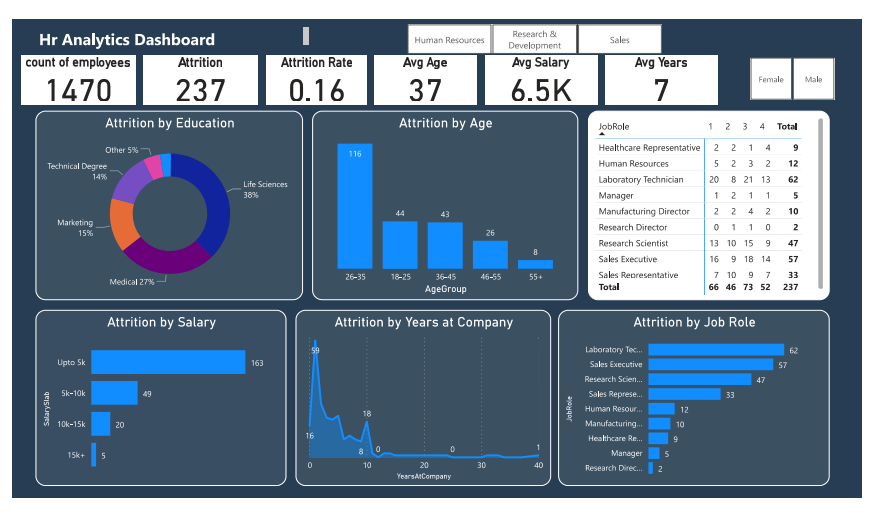

The dashboard page shown, as its layout file describes it:
{"tool":"powerbi","page":{"name":"Page 1","canvas":[1280,720],"ordinal":0},"visuals":[{"type":"card","title":"Avg Age","fields":{"Values":["Avg(HR_Analytics.Age)"]},"box":[545,53.3,155,73.3],"z":0},{"type":"card","title":"Attrition Rate","fields":{"Values":["HR_Analytics.AttritionRate"]},"box":[383.3,53.3,151.7,73.3],"z":1000},{"type":"card","title":"Attrition","fields":{"Values":["Sum(HR_Analytics.AttritionCount)"]},"box":[196.7,53.3,173.3,73.3],"z":2000},{"type":"card","title":"count of employees","fields":{"Values":["CountNonNull(HR_Analytics.EmpID)"]},"box":[13.3,53.3,171.7,73.3],"z":3000},{"type":"card","title":"Avg Salary","fields":{"Values":["Avg(HR_Analytics.MonthlyIncome)"]},"box":[711.7,53.3,170,73.3],"z":4000},{"type":"card","title":"Avg Years","fields":{"Values":["Avg(HR_Analytics.YearsAtCompany)"]},"box":[893.3,53.3,170,73.3],"z":5000},{"type":"donutChart","title":"Attrition by Education","fields":{"Category":["HR_Analytics.EducationField"],"Y":["Sum(HR_Analytics.AttritionCount)"]},"box":[35,136.7,403.3,285],"z":6000},{"type":"columnChart","title":"Attrition by Age","fields":{"Category":["HR_Analytics.AgeGroup"],"Y":["Sum(HR_Analytics.AttritionCount)"]},"box":[451.7,136.7,401.7,285],"z":7000},{"type":"pivotTable","fields":{"Rows":["HR_Analytics.JobRole"],"Columns":["HR_Analytics.JobSatisfaction"],"Values":["Sum(HR_Analytics.AttritionCount)"]},"box":[868.3,136.7,363.3,285],"z":8000},{"type":"barChart","title":"Attrition by Salary","fields":{"Category":["HR_Analytics.SalarySlab"],"Y":["Sum(HR_Analytics.AttritionCount)"]},"box":[35,436.7,378.3,265],"z":9000},{"type":"barChart","title":"Attrition by Job Role","fields":{"Category":["HR_Analytics.JobRole"],"Y":["Sum(HR_Analytics.AttritionCount)"]},"box":[823.3,436.7,408.3,265],"z":10000},{"type":"areaChart","title":"Attrition by Years at Company","fields":{"Category":["HR_Analytics.YearsAtCompany"],"Y":["Sum(HR_Analytics.AttritionCount)"]},"box":[426.7,436.7,385,265],"z":11000},{"type":"slicer","fields":{"Values":["HR_Analytics.Gender"]},"box":[1086.7,50,176.7,76.7],"z":12000},{"type":"slicer","fields":{"Values":["HR_Analytics.Department"]},"box":[570,0,433.3,50],"z":13000},{"type":"textbox","box":[35,6.7,416.7,46.7],"z":14000}]}

Visuals, with their boxes in screenshot pixels (x1, y1, x2, y2):
"Avg Age" card: 366,52,470,101
"Attrition Rate" card: 256,52,359,101
"Attrition" card: 130,52,247,101
"count of employees" card: 7,52,123,101
"Avg Salary" card: 478,52,593,101
"Avg Years" card: 601,52,715,101
"Attrition by Education" donutChart: 21,108,294,301
"Attrition by Age" columnChart: 303,108,574,301
pivotTable - HR_Analytics.JobRole x HR_Analytics.JobSatisfaction: 584,108,829,301
"Attrition by Salary" barChart: 21,311,277,490
"Attrition by Job Role" barChart: 553,311,829,490
"Attrition by Years at Company" areaChart: 286,311,546,490
slicer - HR_Analytics.Gender: 731,50,850,101
slicer - HR_Analytics.Department: 382,16,675,50
textbox: 21,20,303,52
